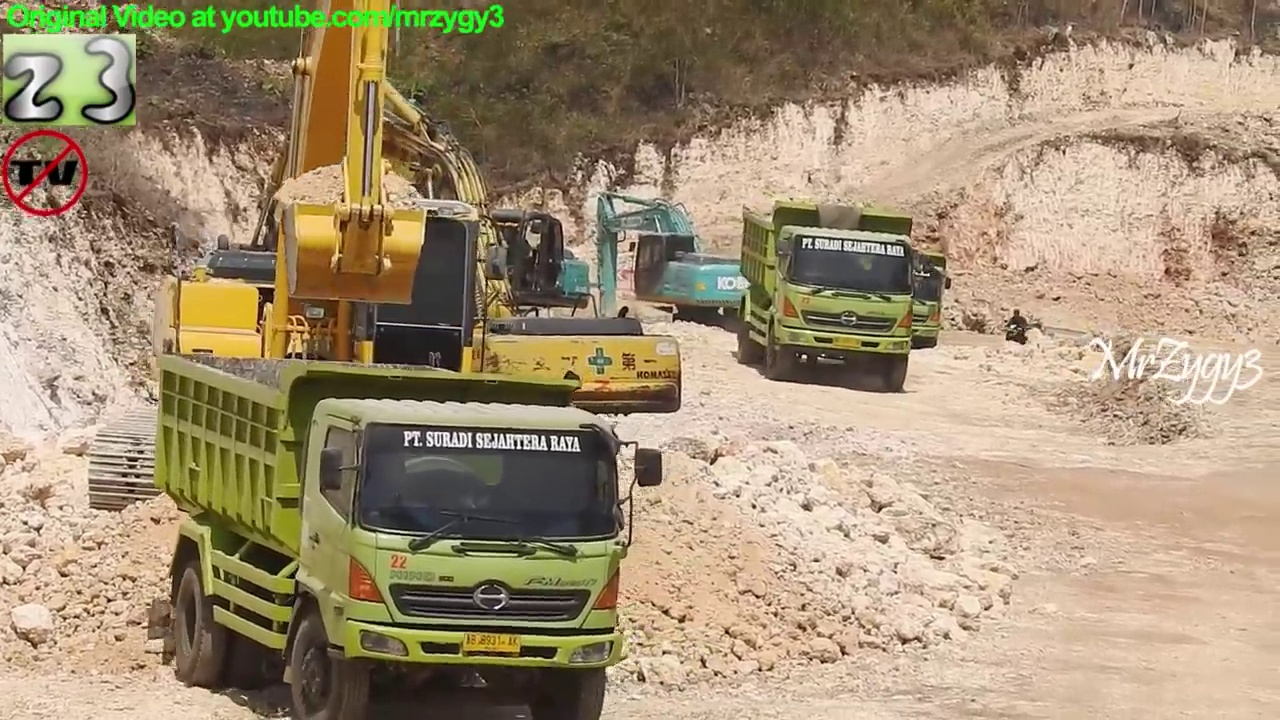excavator: (82, 1, 530, 530), (205, 54, 685, 499), (295, 57, 596, 345), (581, 188, 778, 340)
truck: (143, 344, 671, 720), (734, 198, 922, 400), (831, 230, 955, 357)
